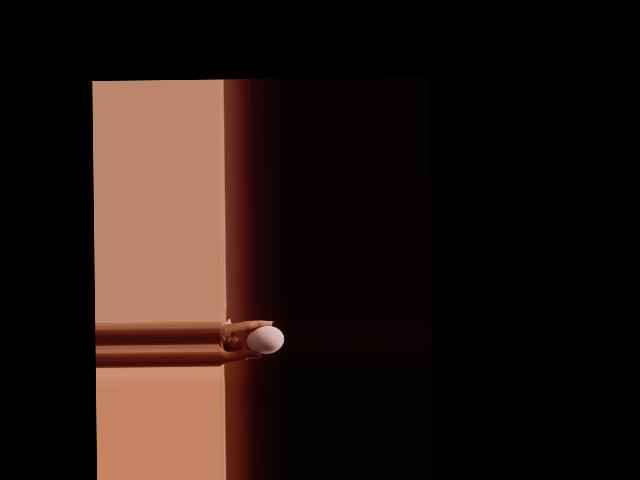egg: (245, 326, 283, 354)
